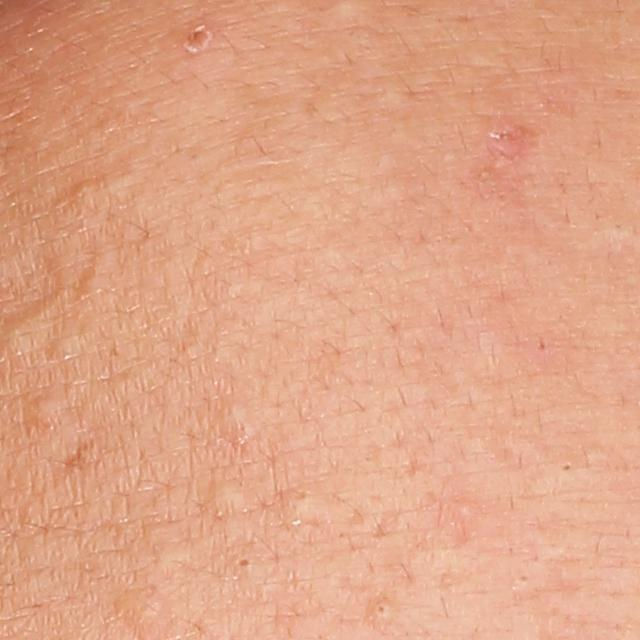comedo: (20, 389, 65, 433), (209, 478, 254, 515), (286, 483, 322, 522), (66, 177, 100, 215), (215, 400, 249, 436), (80, 266, 111, 294), (233, 551, 256, 579), (369, 599, 391, 621), (457, 501, 474, 519), (560, 460, 574, 474)
